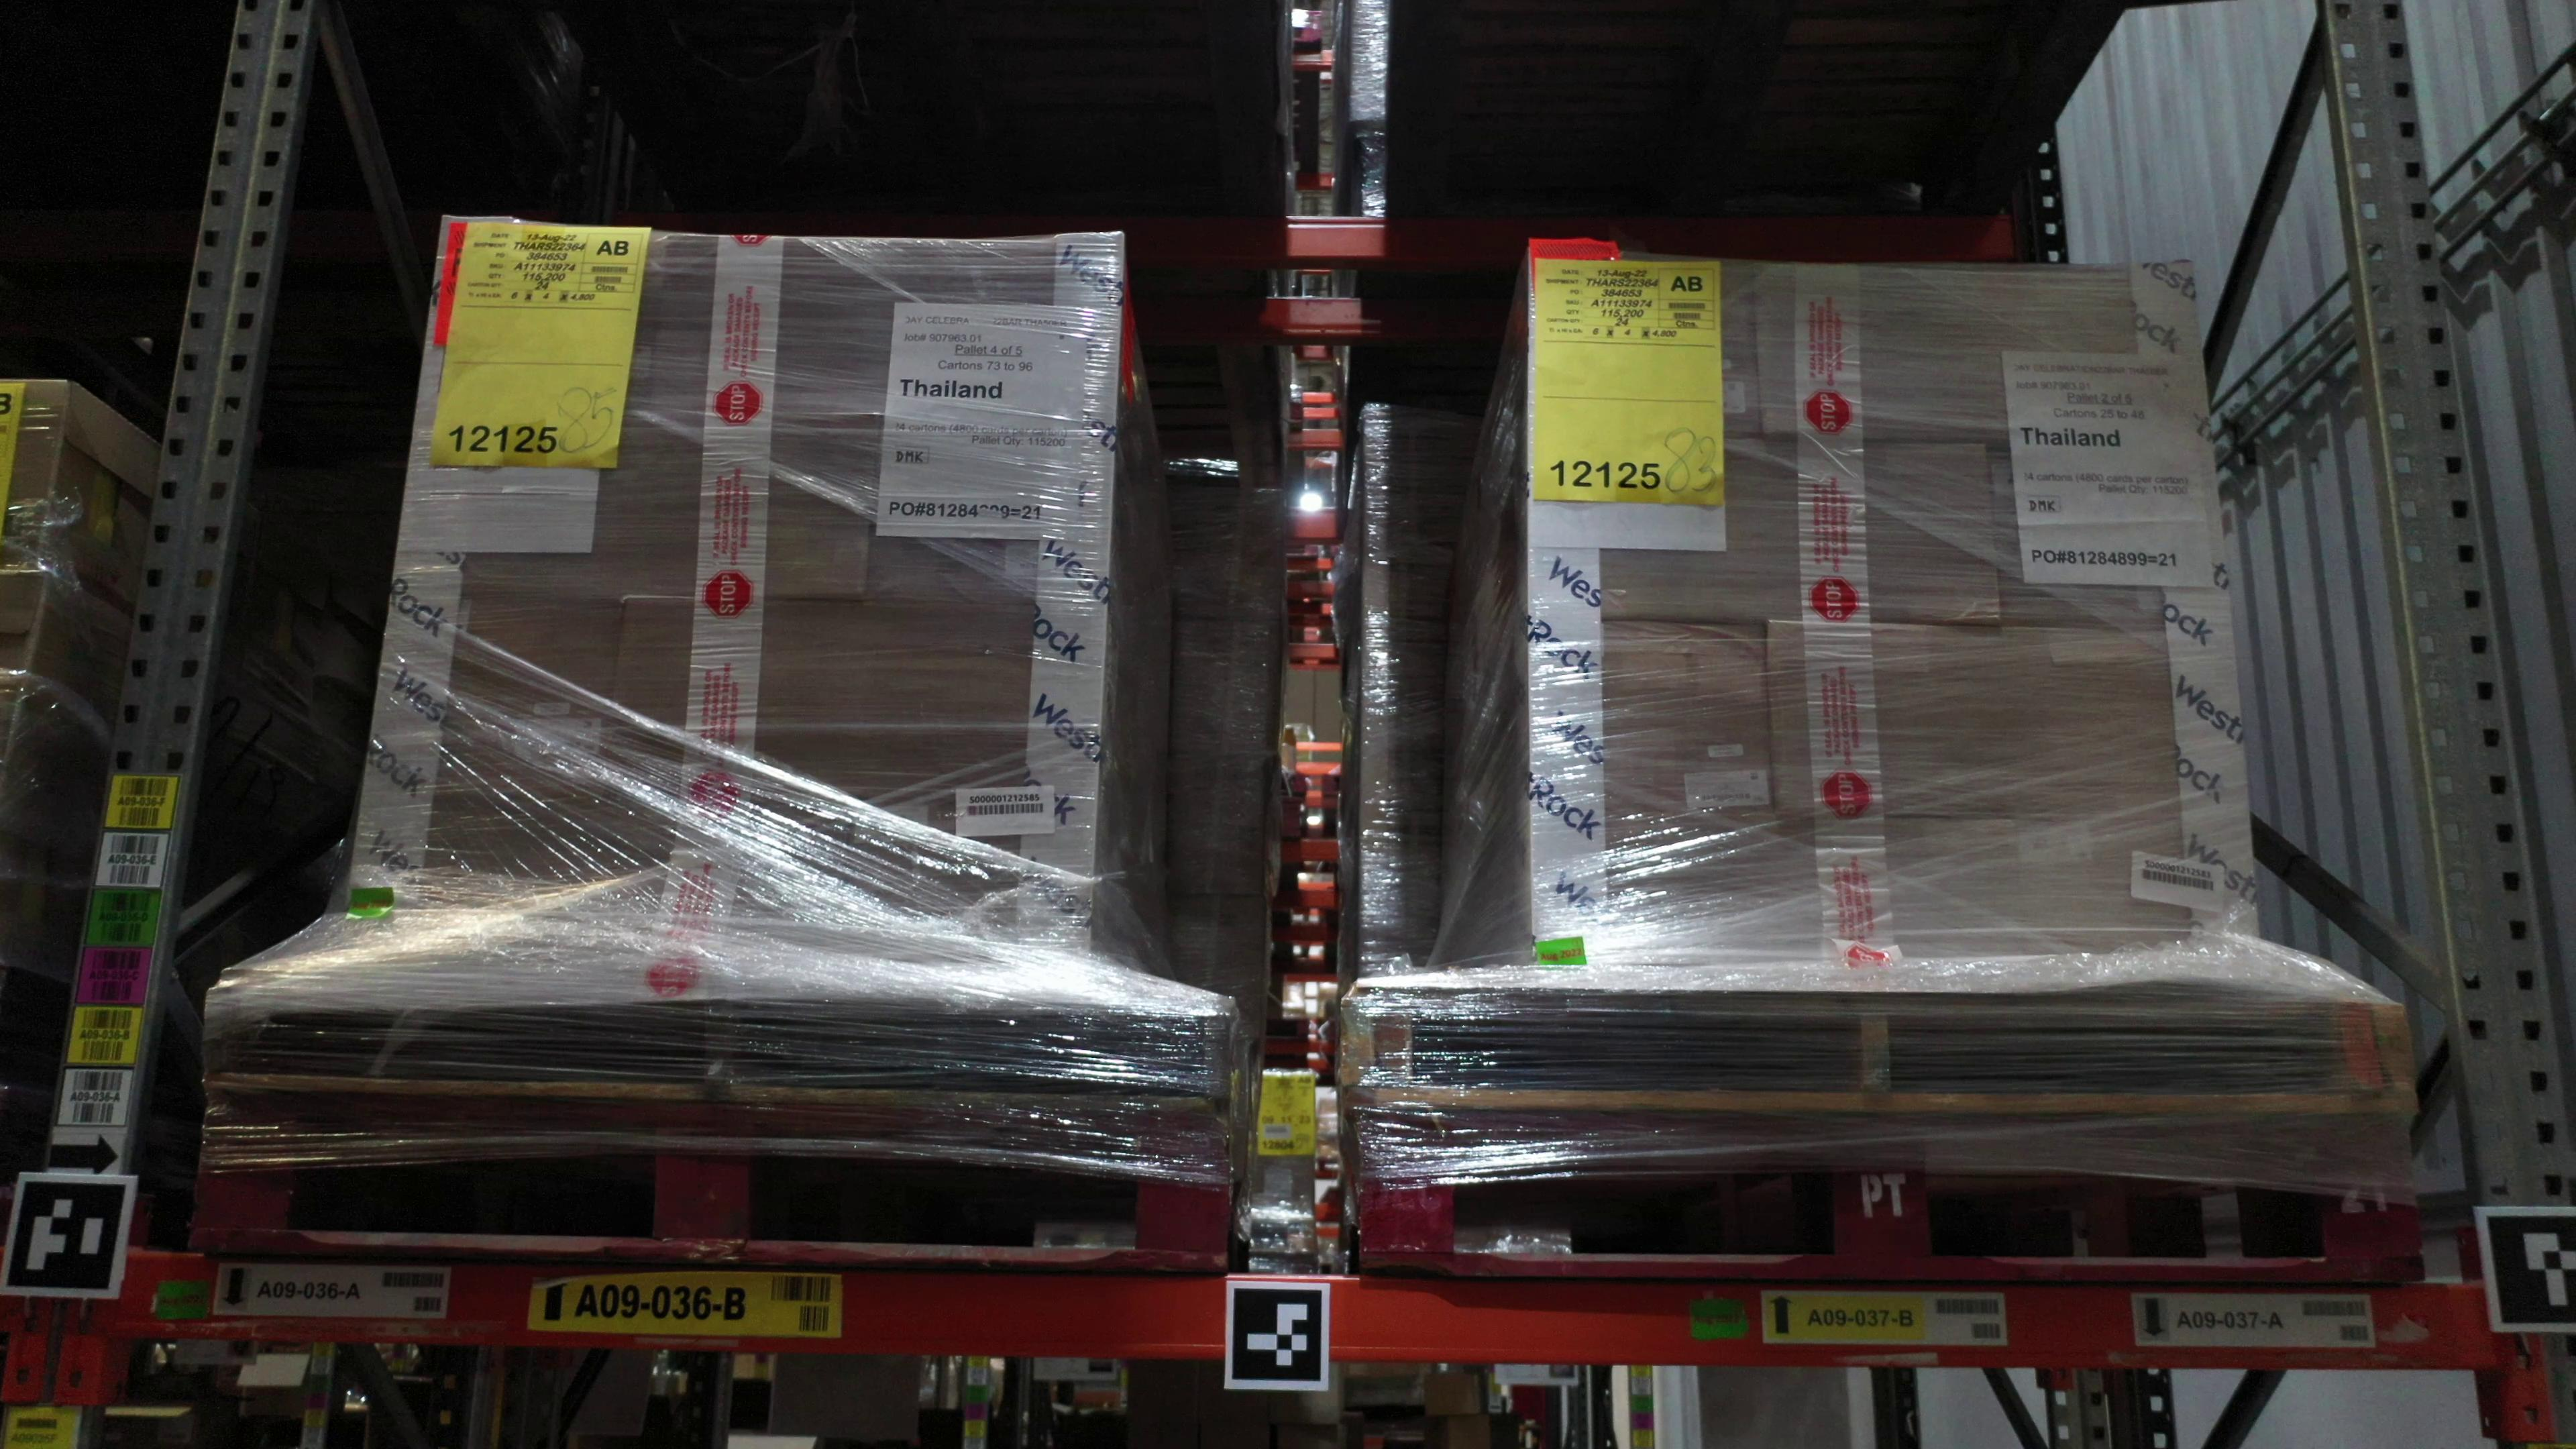-: (607, 593, 1113, 816), (1769, 621, 2252, 821), (655, 232, 1120, 432), (1527, 433, 1999, 628), (389, 414, 874, 596), (1755, 260, 2213, 448), (347, 791, 855, 955), (1532, 814, 2024, 971), (366, 591, 626, 800), (418, 218, 667, 425), (1527, 626, 1771, 816), (863, 418, 1111, 600), (1989, 448, 2231, 633), (1529, 253, 1762, 435), (847, 803, 1100, 957), (2015, 819, 2261, 975)
